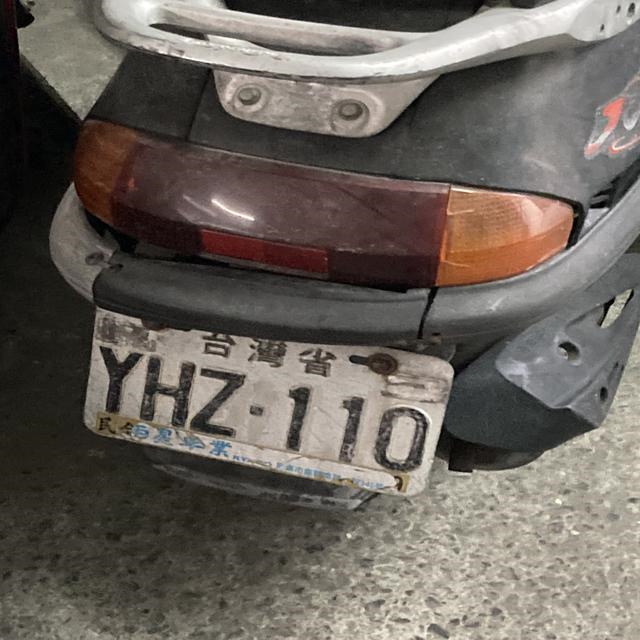license: (84, 340, 442, 479)
